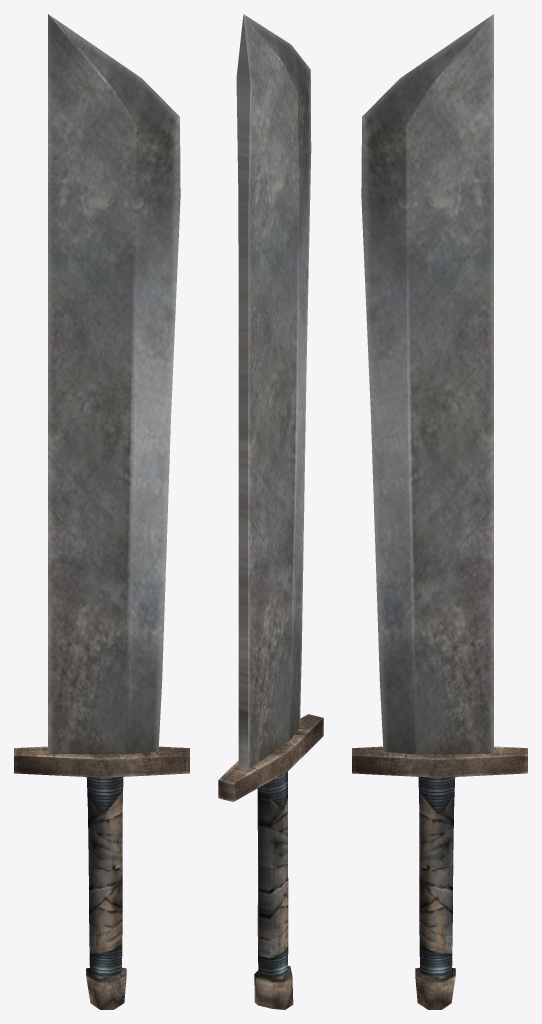
File: weapons_sword07.glb
3 renders of one model, left to right at view 1: azimuth 90°, elevation 25°; view 2: azimuth 150°, elevation 25°; view 3: azimuth 270°, elevation 25°, orthographic. The views are drawn at different scales.
Parts seen in each view (by area): view 1: sword07; view 2: sword07; view 3: sword07.
Part boxes in pixels (x1,y1,x2,y2): sword07: (14,14,189,1009); sword07: (218,14,323,1009); sword07: (352,14,527,1009).
Bounding box in the file's own units: 0.0389 × 1.12 × 0.18.
1 material, 1 textured.
